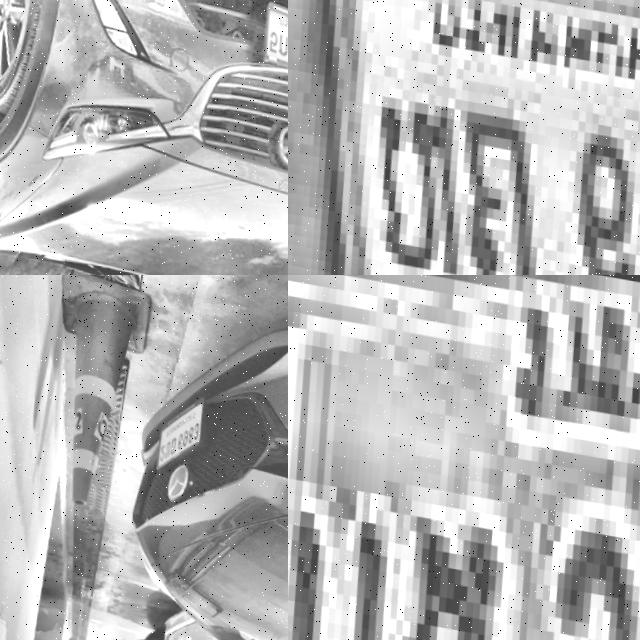license-plate: (288, 275, 640, 640), (288, 0, 640, 275), (150, 384, 208, 476), (256, 0, 288, 79)
